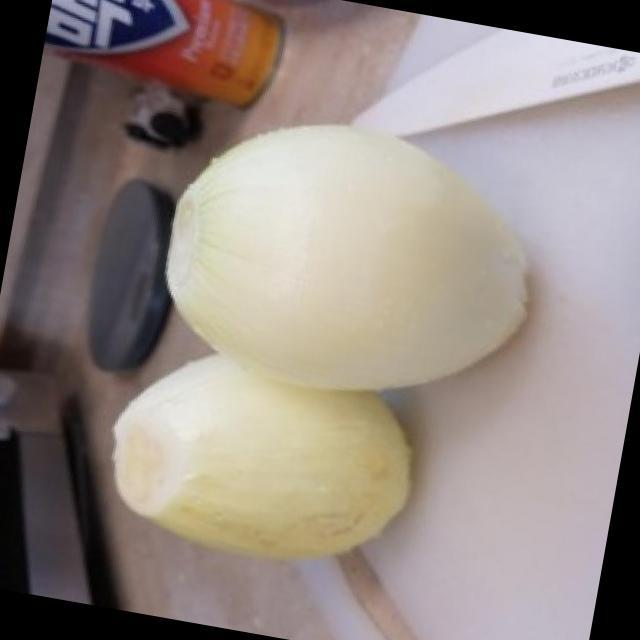Onion: (165, 122, 525, 388), (111, 359, 412, 557)
